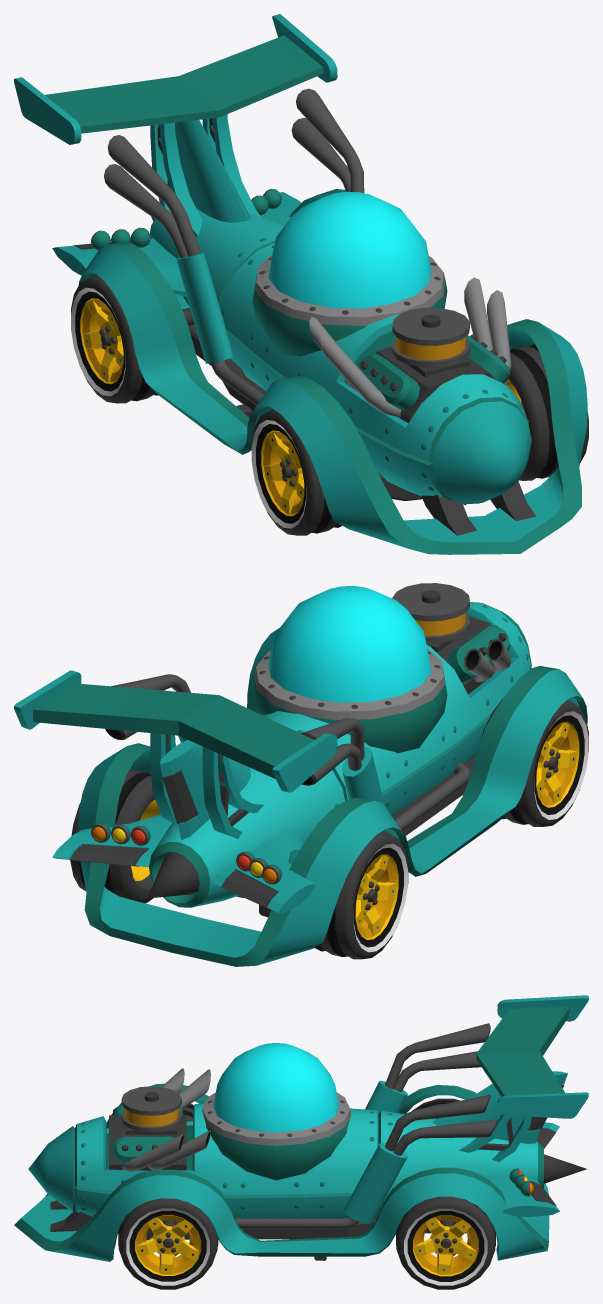
File: VEH23-B.fbx
The picture shows the model from 3 angles, top to bottom: view 1: azimuth 30°, elevation 25°; view 2: azimuth 150°, elevation 25°; view 3: azimuth 270°, elevation 25°; orthographic projection. The views are drawn at different scales.
Parts seen in each view (by area): view 1: VEH23_B, VEH23B_Wheel_FR, VEH23B_Wheel_BR, VEH23B_Wheel_FL; view 2: VEH23_B, VEH23B_Wheel_BR, VEH23B_Wheel_FR, VEH23B_Wheel_BL; view 3: VEH23_B, VEH23B_Wheel_BL, VEH23B_Wheel_FL.
Part boxes in pixels (x1,y1,x2,y2): VEH23_B: [14, 14, 587, 554]; VEH23B_Wheel_FR: [251, 409, 341, 535]; VEH23B_Wheel_BR: [71, 274, 157, 403]; VEH23B_Wheel_FL: [506, 344, 588, 480]; VEH23_B: [14, 583, 587, 966]; VEH23B_Wheel_BR: [314, 831, 408, 959]; VEH23B_Wheel_FR: [480, 698, 588, 826]; VEH23B_Wheel_BL: [70, 769, 160, 903]; VEH23_B: [14, 995, 588, 1261]; VEH23B_Wheel_BL: [396, 1196, 495, 1289]; VEH23B_Wheel_FL: [118, 1198, 218, 1289].
Size of the model in its own units: 230 by 192 by 513.
Materials: 1 (1 with a texture image).
